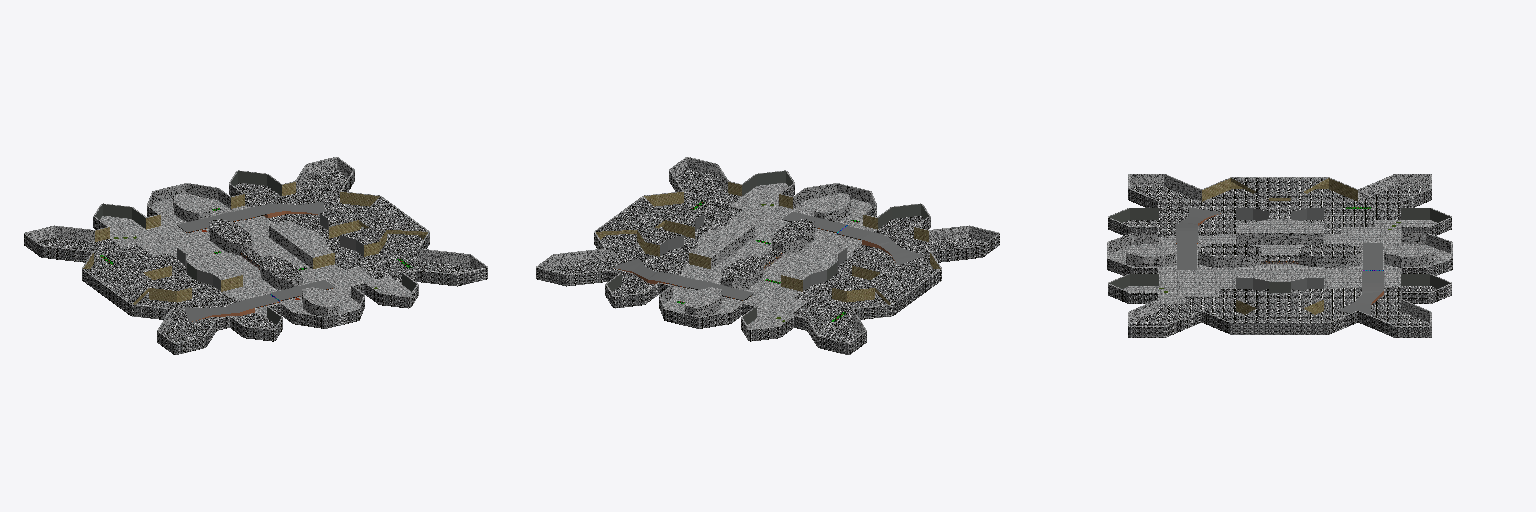
3 renders of one model, left to right at view 1: azimuth 30°, elevation 25°; view 2: azimuth 150°, elevation 25°; view 3: azimuth 270°, elevation 25°, orthographic.
Visible parts, largest first — view 1: Big-SKP--Road_0x00_2, Big-SKP--Road_0x00_1, Big-SKP--Wall_0x0C_2, Big-SKP--Wall_0x0C, Big-SKP--Road_0x00_3, Big-SKP--Wall_0x0C_6, Big-SKP--Wall_0x0C_5, Big-SKP--Wall_0x0C_4; view 2: Big-SKP--Road_0x00_2, Big-SKP--Road_0x00_1, Big-SKP--Wall_0x0C_2, Big-SKP--Wall_0x0C, Big-SKP--Road_0x00_3, Big-SKP--Wall_0x0C_6, Big-SKP--Wall_0x0C_5, Big-SKP--Wall_0x0C_4; view 3: Big-SKP--Road_0x00_2, Big-SKP--Road_0x00_1, Big-SKP--Wall_0x0C, Big-SKP--Road_0x00_3, Big-SKP--Wall_0x0C_6, Big-SKP--Wall_0x0C_5, Big-SKP--Wall_0x0C_4, Big-SKP--Wall_0x0C_2.
Boxes of the visible parts, <box> form: Big-SKP--Road_0x00_2: <box>24,169,487,354</box>; Big-SKP--Road_0x00_1: <box>24,157,487,343</box>; Big-SKP--Wall_0x0C_2: <box>83,182,427,304</box>; Big-SKP--Wall_0x0C: <box>148,184,363,316</box>; Big-SKP--Road_0x00_3: <box>178,201,333,321</box>; Big-SKP--Wall_0x0C_6: <box>26,157,485,333</box>; Big-SKP--Wall_0x0C_5: <box>95,171,416,324</box>; Big-SKP--Wall_0x0C_4: <box>177,213,363,290</box>; Big-SKP--Road_0x00_2: <box>536,169,999,354</box>; Big-SKP--Road_0x00_1: <box>536,157,999,343</box>; Big-SKP--Wall_0x0C_2: <box>596,182,940,304</box>; Big-SKP--Wall_0x0C: <box>660,184,875,316</box>; Big-SKP--Road_0x00_3: <box>612,212,923,300</box>; Big-SKP--Wall_0x0C_6: <box>538,157,997,333</box>; Big-SKP--Wall_0x0C_5: <box>607,171,928,324</box>; Big-SKP--Wall_0x0C_4: <box>660,213,846,290</box>; Big-SKP--Road_0x00_2: <box>1107,178,1452,337</box>; Big-SKP--Road_0x00_1: <box>1107,174,1452,326</box>; Big-SKP--Wall_0x0C: <box>1109,233,1450,267</box>; Big-SKP--Road_0x00_3: <box>1176,207,1383,314</box>; Big-SKP--Wall_0x0C_6: <box>1130,174,1429,322</box>; Big-SKP--Wall_0x0C_5: <box>1109,208,1450,292</box>; Big-SKP--Wall_0x0C_4: <box>1236,208,1323,290</box>; Big-SKP--Wall_0x0C_2: <box>1202,178,1357,314</box>.
Bounding box in the file's own units: 32940 × 1152 × 31404.
19 materials, 13 textured.